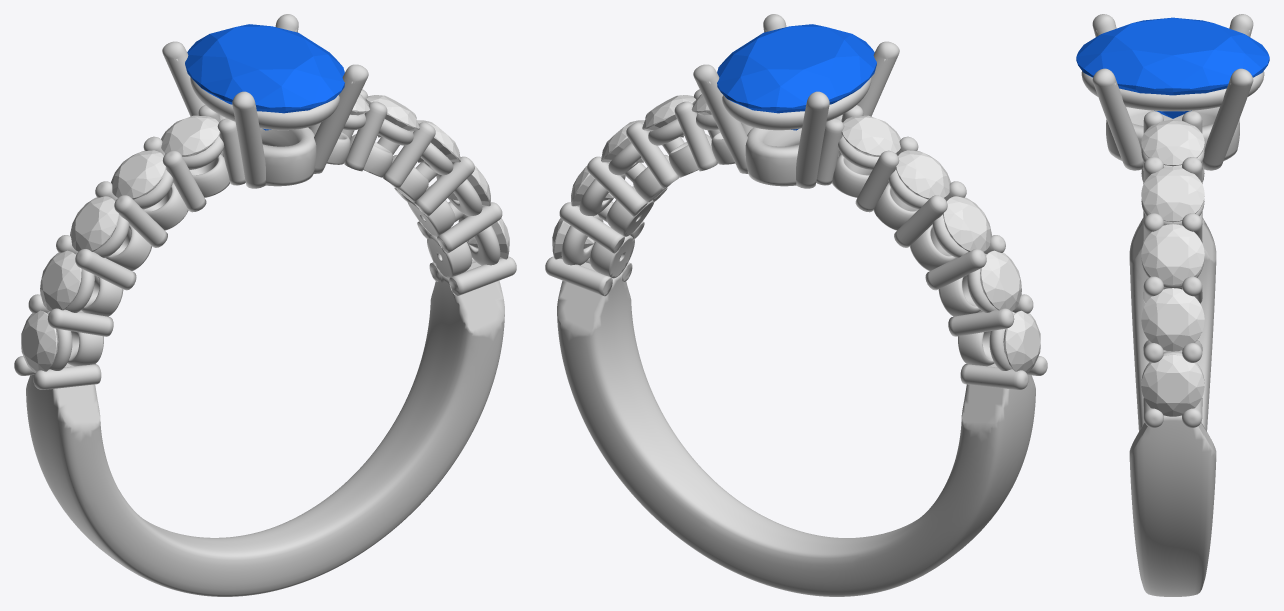
The model's file is bluesapphire-oval-platinum-4prong-straighttaperedband-11stone.glb.
The picture shows the model from 3 angles, left to right: view 1: azimuth 30°, elevation 25°; view 2: azimuth 150°, elevation 25°; view 3: azimuth 270°, elevation 25°; orthographic projection.
Parts seen in each view (by area): view 1: metal, stone, side.002, side.003, side.001, side.004, side, side.008, side.007; view 2: metal, stone, side.002, side.003, side.001, side.004, side, side.008, side.007; view 3: metal, stone, side.006, side.005, side.007, side.008, side.009.
Part boxes in pixels (left/top/right/bottom): metal: left=14, top=14, right=516, bottom=596; stone: left=185, top=24, right=344, bottom=130; side.002: left=70, top=196, right=118, bottom=251; side.003: left=111, top=150, right=166, bottom=199; side.001: left=40, top=250, right=81, bottom=311; side.004: left=161, top=115, right=220, bottom=156; side: left=21, top=310, right=58, bottom=372; side.008: left=365, top=95, right=419, bottom=137; side.007: left=417, top=120, right=460, bottom=162; metal: left=545, top=14, right=1047, bottom=596; stone: left=717, top=24, right=876, bottom=130; side.002: left=943, top=196, right=991, bottom=251; side.003: left=895, top=150, right=950, bottom=199; side.001: left=980, top=250, right=1021, bottom=311; side.004: left=841, top=115, right=900, bottom=156; side: left=1003, top=310, right=1040, bottom=372; side.008: left=642, top=95, right=696, bottom=137; side.007: left=601, top=120, right=644, bottom=162; metal: left=1081, top=14, right=1264, bottom=596; stone: left=1076, top=17, right=1269, bottom=118; side.006: left=1141, top=288, right=1204, bottom=351; side.005: left=1141, top=354, right=1204, bottom=416; side.007: left=1141, top=224, right=1204, bottom=285; side.008: left=1141, top=166, right=1204, bottom=222; side.009: left=1141, top=120, right=1204, bottom=166.
Size of the model in its own units: 21.88 by 23.41 by 7.64.
